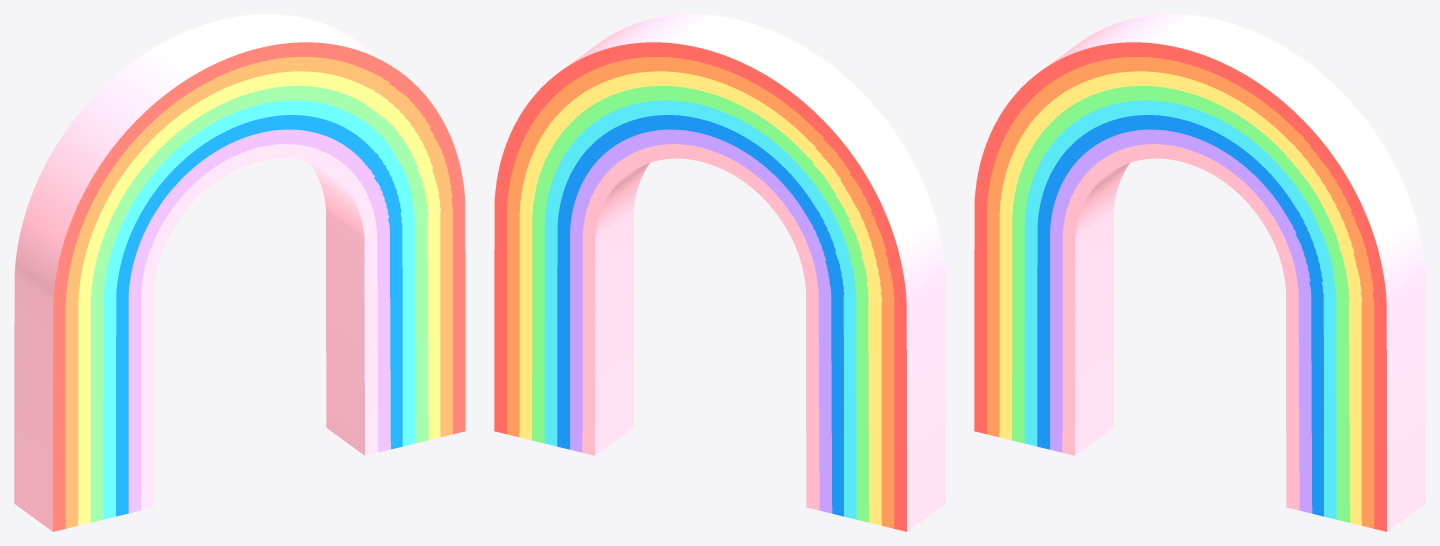
The model's file is thickRainbow.glb.
The picture shows the model from 3 angles, left to right: view 1: azimuth 30°, elevation 25°; view 2: azimuth 150°, elevation 25°; view 3: azimuth 330°, elevation 25°; orthographic projection.
Parts seen in each view (by area): view 1: thickRainbow.004; view 2: thickRainbow.004; view 3: thickRainbow.004.
Boxes of the visible parts, box(x1,y1,x2,y2) form: thickRainbow.004: box(14, 14, 465, 531); thickRainbow.004: box(494, 14, 945, 531); thickRainbow.004: box(974, 14, 1425, 531).
Size of what is drawn, in the model's own units: 54.19 by 54.39 by 8.79.
1 material, 1 textured.
